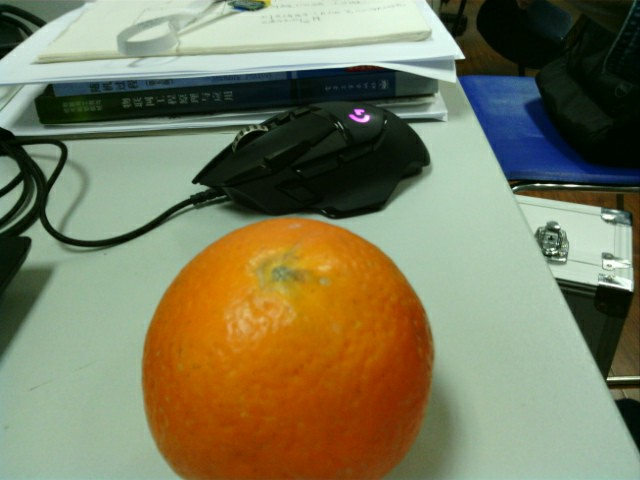normal_orange: (142, 217, 433, 480)
